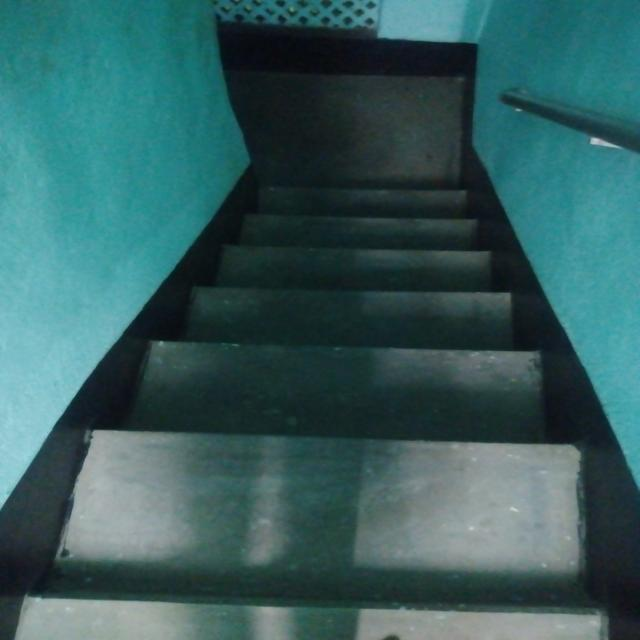Stairs: (39, 36, 629, 622)
